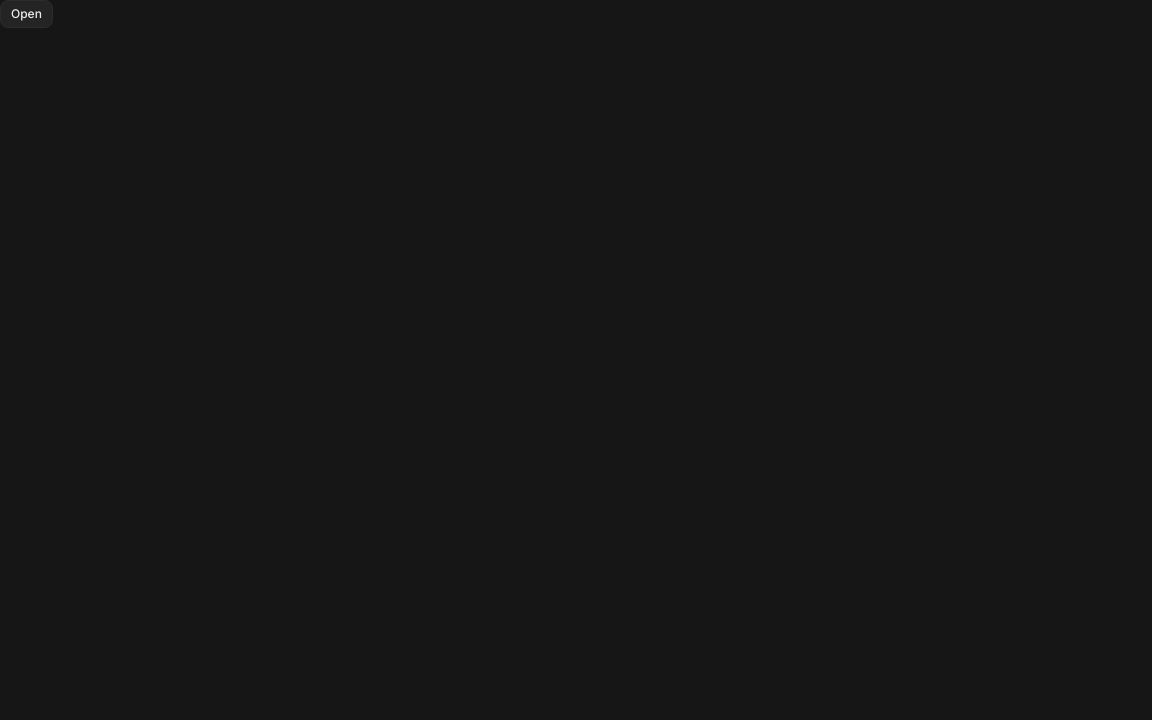
Test: PickerMenu › creating › names a new item in a field, then picks it
The image size is (1152, 720).
Click the button "Open" at (26, 14), box [0,0,53,28]
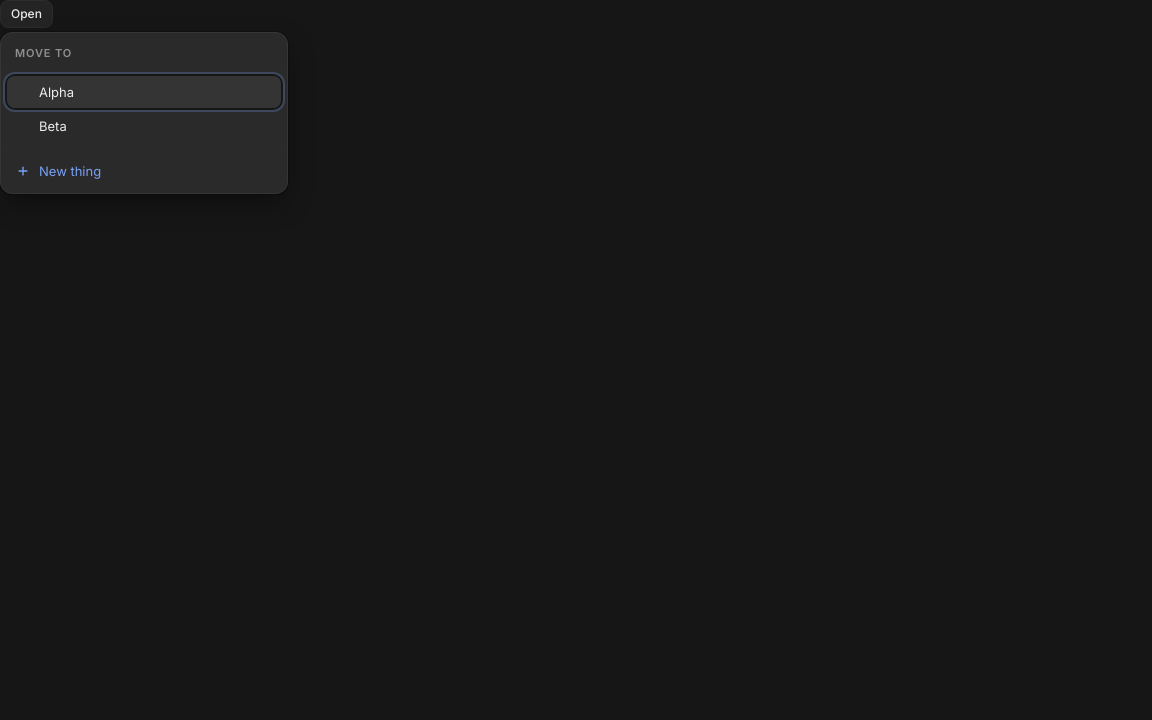
Click the button "New thing" at (70, 171), box [7,155,281,187]
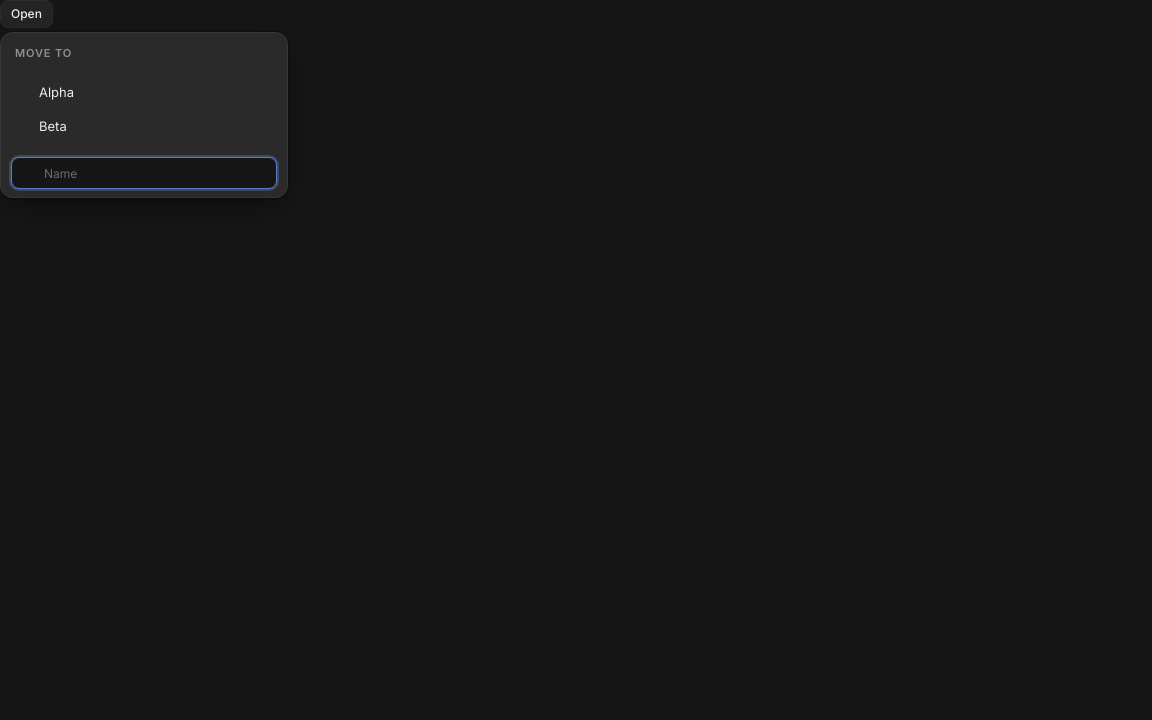
Type "  Gamma " into the field named "New thing" at (144, 173), box [11,157,277,189]
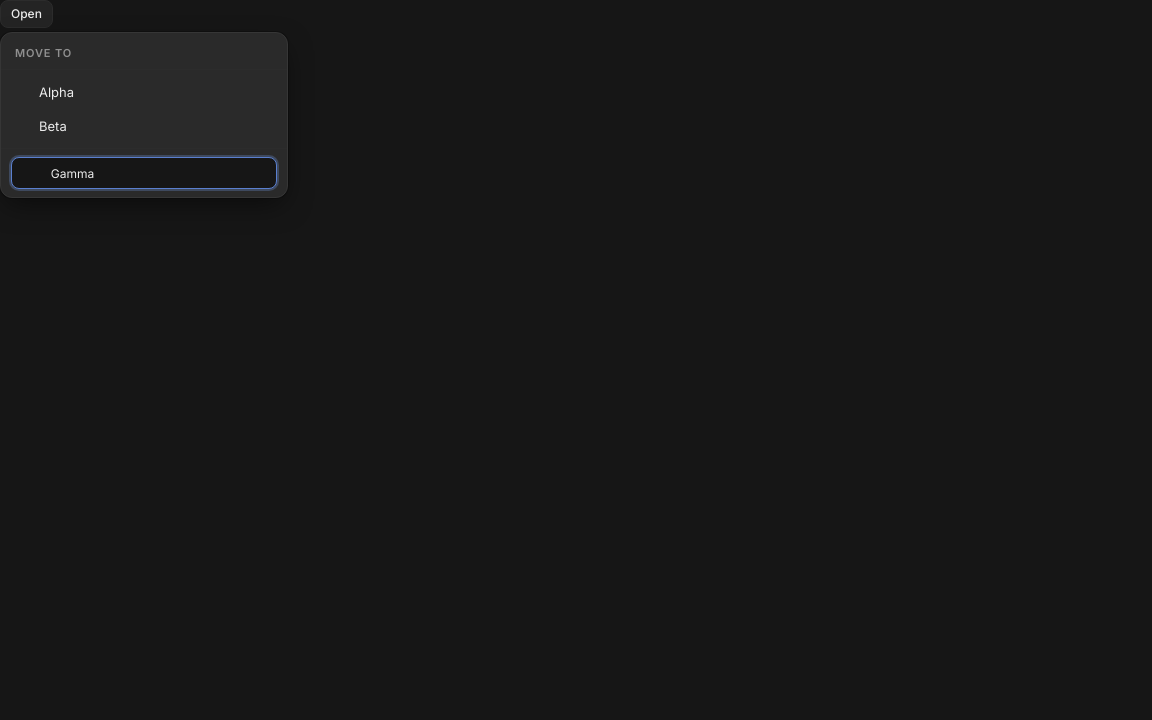
Submit the form named "New thing", box [7,155,281,191]
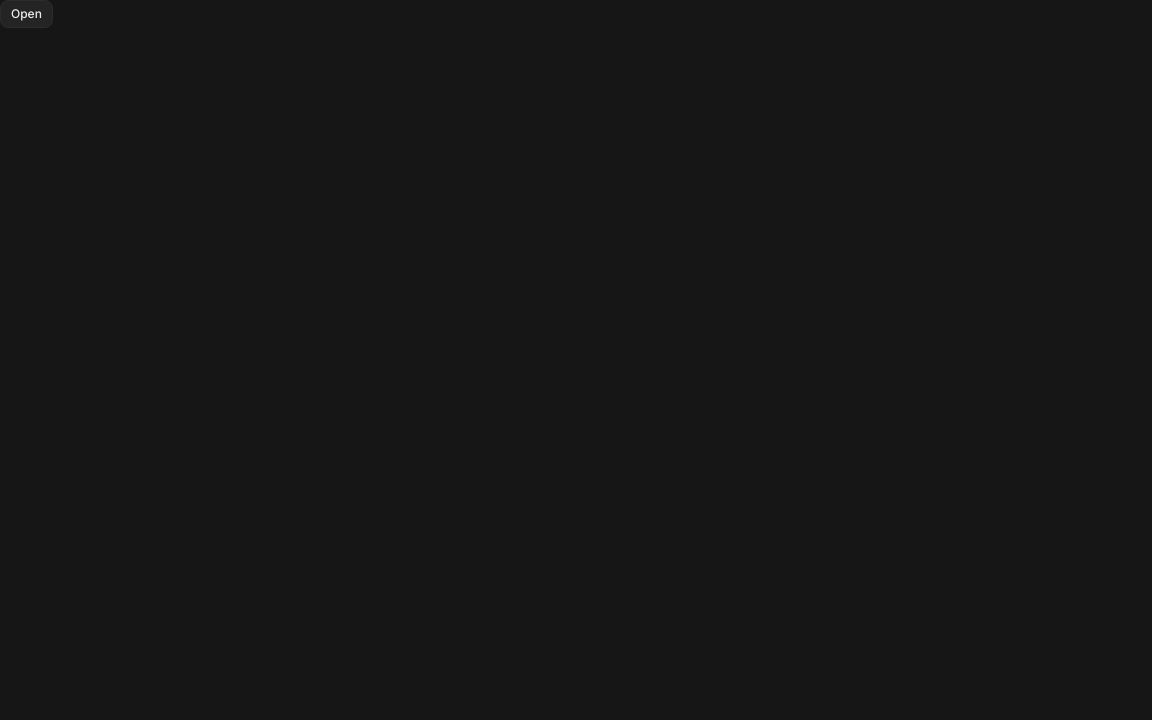
Expected: the dialog is gone
